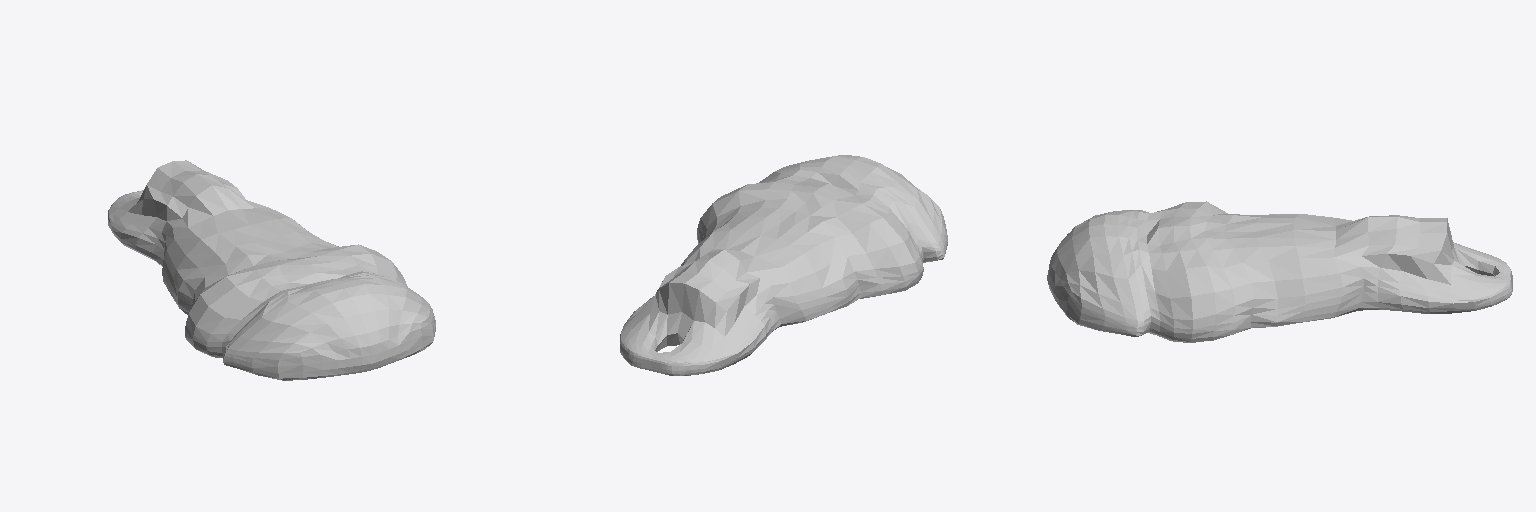
File: grandma_necklace_pendant_lopoly.OBJ
3 renders of one model, left to right at view 1: azimuth 30°, elevation 25°; view 2: azimuth 150°, elevation 25°; view 3: azimuth 270°, elevation 25°, orthographic.
Parts seen in each view (by area): view 1: Group4; view 2: Group4; view 3: Group4.
Part boxes in pixels (left/top/right/bottom): Group4: left=108, top=160, right=435, bottom=380; Group4: left=620, top=155, right=947, bottom=375; Group4: left=1047, top=201, right=1512, bottom=342.
Size of the model in its own units: 0.3051 by 0.1063 by 0.5762.